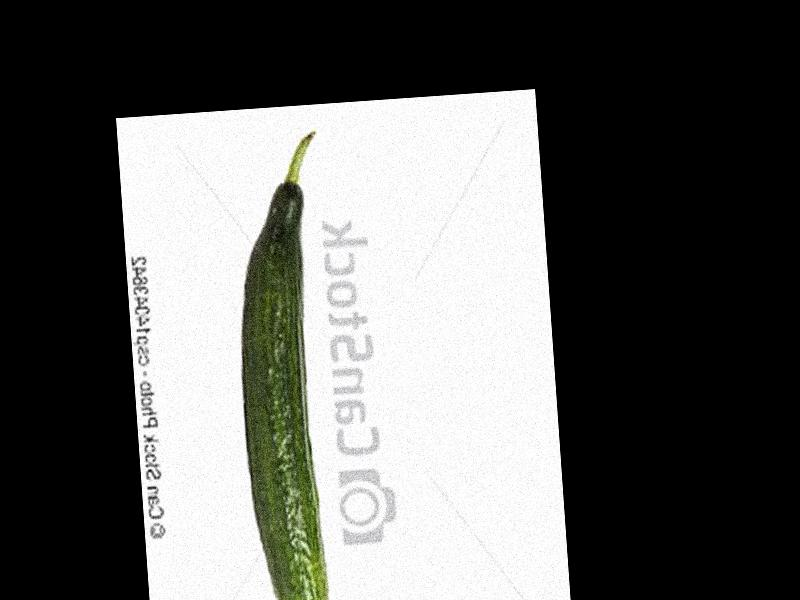Cucumber: (224, 128, 347, 600)
